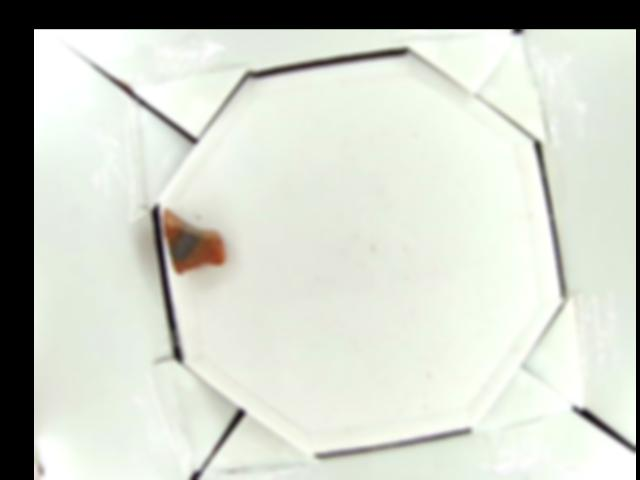Brisk: (161, 207, 226, 273)
